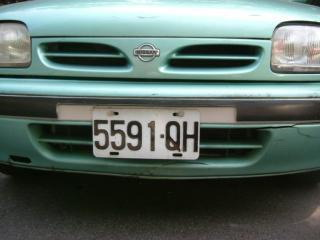plate: (89, 106, 203, 162)
